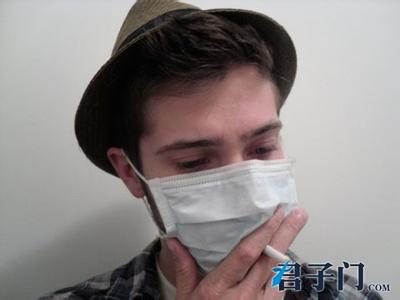OK: (153, 117, 305, 269)
